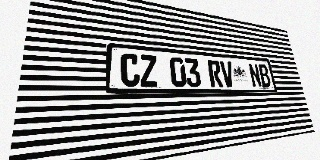0: (169, 57, 187, 87)
3: (184, 58, 201, 87)
B: (258, 64, 272, 87)
C: (120, 53, 140, 87)
N: (248, 63, 262, 87)
R: (207, 60, 223, 87)
V: (220, 61, 235, 87)
Z: (139, 54, 158, 87)
